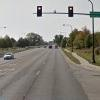Traffic light: (31, 2, 86, 24)
